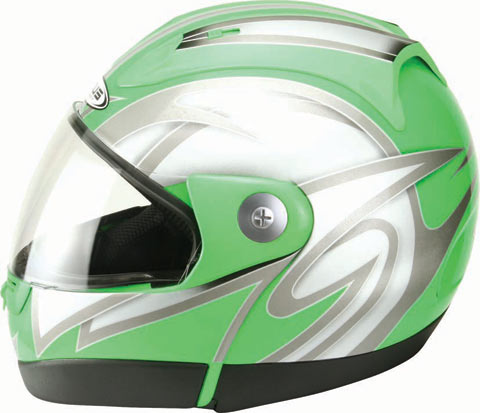helmet: (17, 7, 471, 400)
